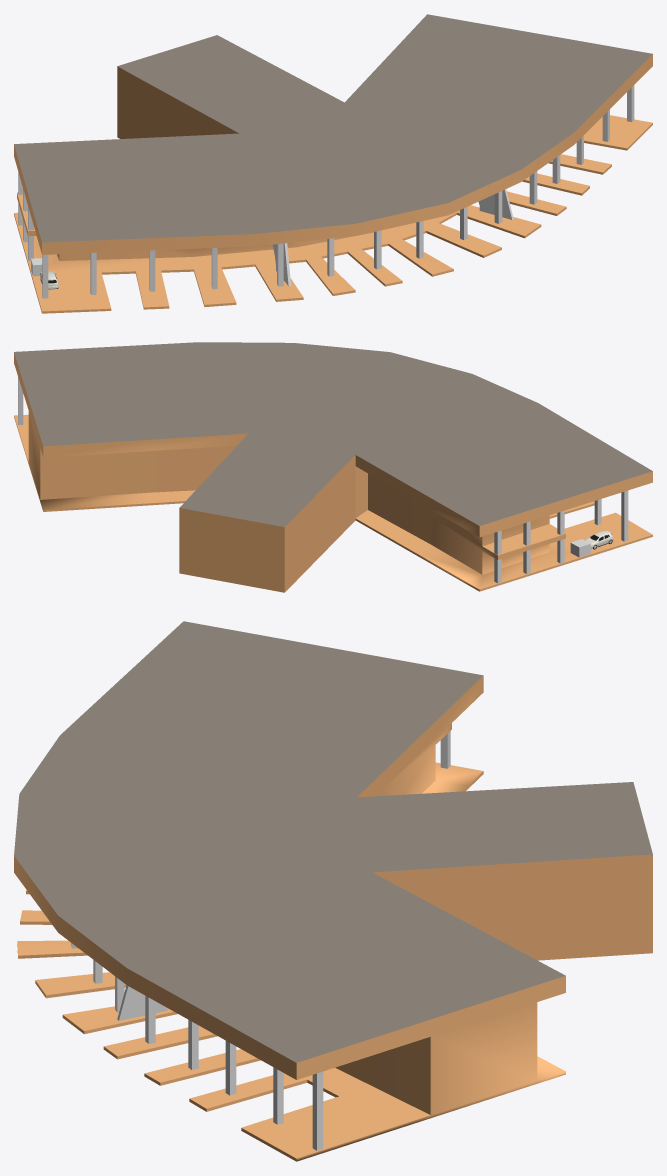
The model's file is rodoviaria 1.fbx.
3 renders of one model, top to bottom at view 1: azimuth 30°, elevation 25°; view 2: azimuth 150°, elevation 25°; view 3: azimuth 270°, elevation 25°, orthographic. The views are drawn at different scales.
Visible parts, largest first — view 1: Rodoviaria, Cube.002; view 2: Rodoviaria, Cube.004, Cube.013; view 3: Rodoviaria, Cube.020, Cube.002.
Boxes of the visible parts, x1,y1,x2,y2 form: Rodoviaria: (14,14,652,313); Cube.002: (478,189,513,219); Rodoviaria: (14,342,652,592); Cube.004: (621,490,628,541); Cube.013: (494,530,501,583); Rodoviaria: (14,621,652,1161); Cube.020: (312,1071,323,1150); Cube.002: (117,985,167,1020).
Bounding box in the file's own units: 96.48 × 10.06 × 58.98.
